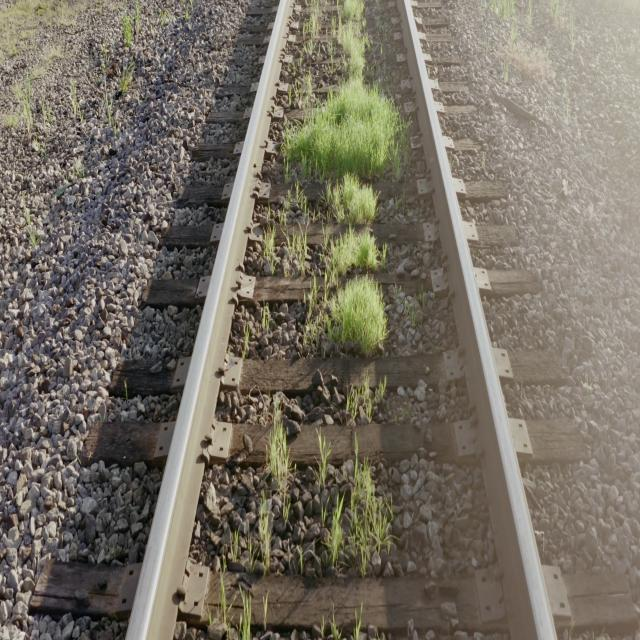Plant: (281, 0, 406, 356), (349, 440, 392, 578), (330, 276, 386, 356), (290, 2, 321, 107), (268, 409, 290, 522), (329, 496, 348, 567), (259, 498, 271, 571), (289, 231, 308, 276), (264, 222, 276, 271), (318, 436, 330, 484), (240, 593, 251, 638), (280, 444, 289, 480)
